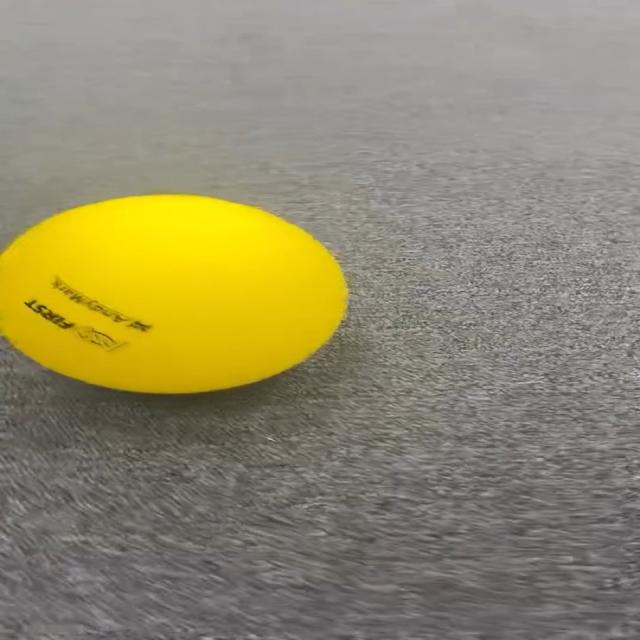Fuels: (2, 196, 348, 390)
